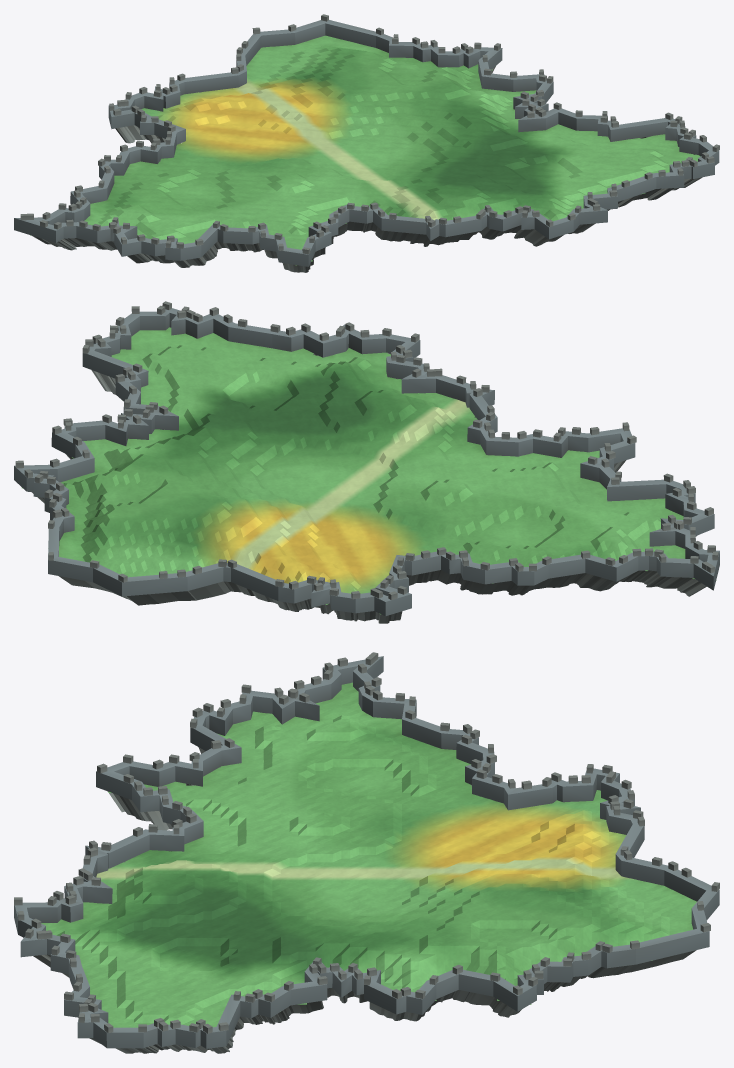
3 views of the same model, one above another, from view 1: azimuth 30°, elevation 25°; view 2: azimuth 150°, elevation 25°; view 3: azimuth 270°, elevation 25° (orthographic). The views are drawn at different scales.
Parts seen in each view (by area): view 1: ground_703ea133; view 2: ground_703ea133; view 3: ground_703ea133.
Boxes of the visible parts, bbox=[...] form: ground_703ea133: bbox=[14, 14, 719, 272]; ground_703ea133: bbox=[14, 301, 719, 623]; ground_703ea133: bbox=[14, 652, 719, 1053].
Bounding box in the file's own units: 155 × 7.71 × 123.
2 materials, 1 textured.
